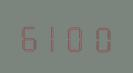one: (42, 19, 65, 52)
six: (18, 19, 41, 52)
zero: (66, 20, 89, 53), (90, 20, 113, 53)
